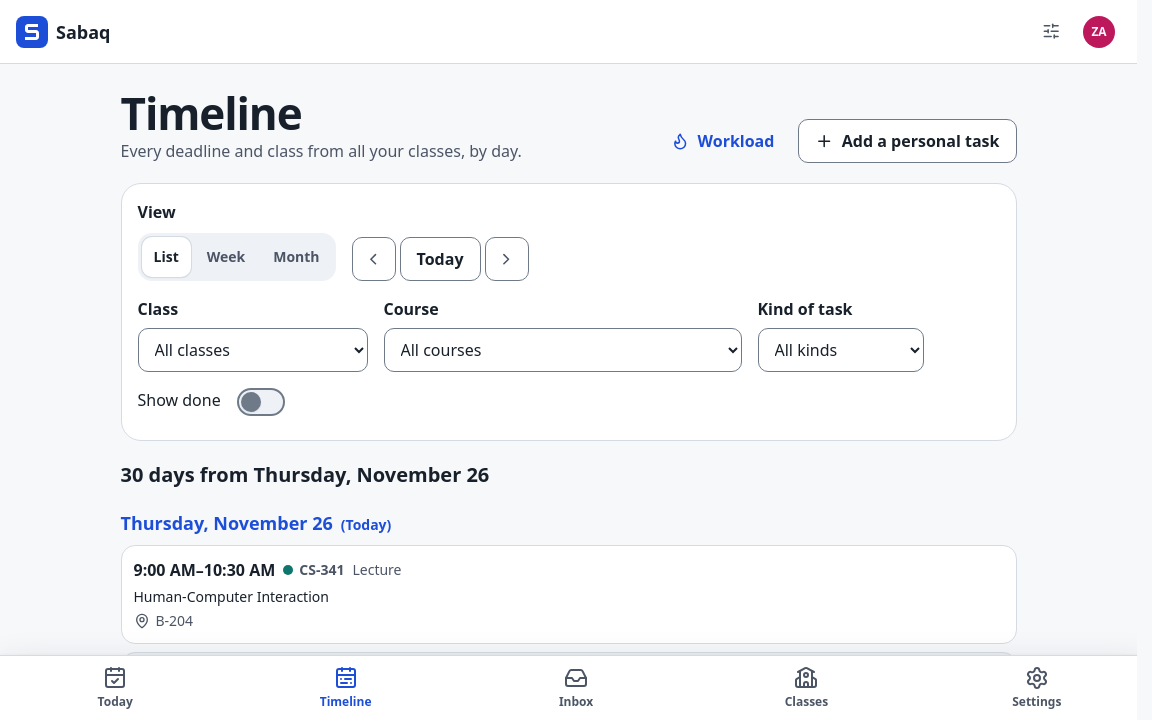
Timeline › shows done work only when asked
This screenshot has width=1152, height=720.
Expected: the heading "30 days from Thursday, November 26" is shown, [120,461,489,488]
Expected: the text "Finished lab" is not shown
Click the switch named "Show done" at (261, 402), box [237,388,285,416]
(page scrolled)
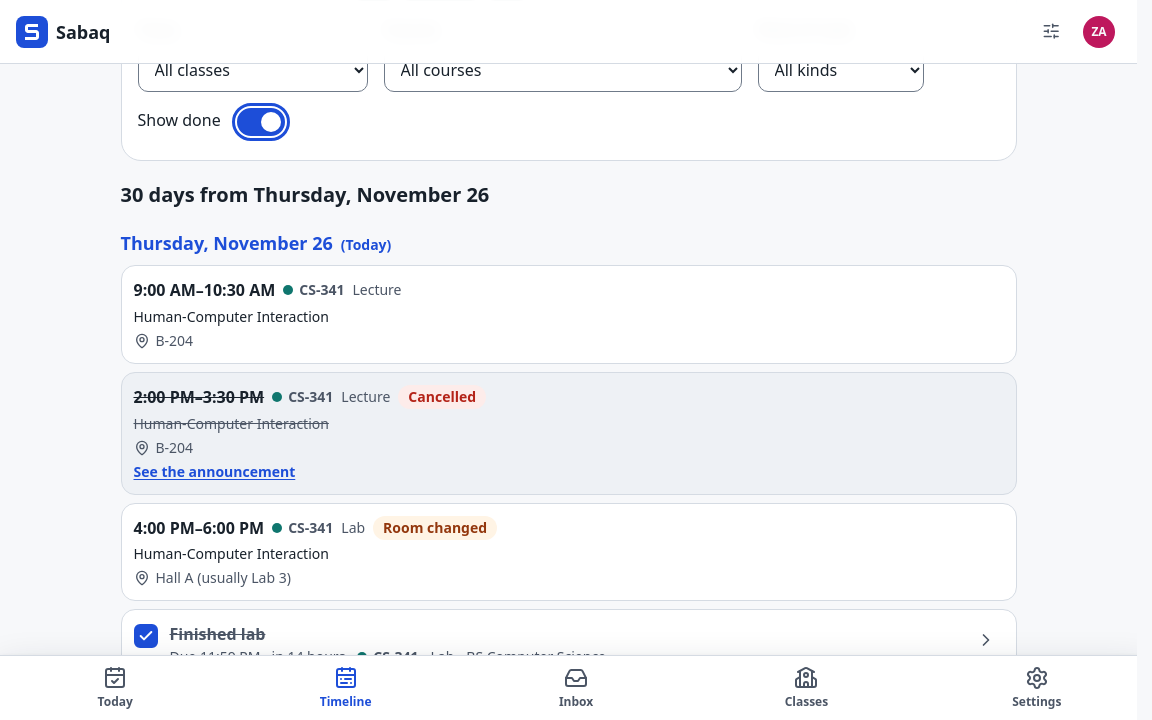
Now the text "Finished lab" is shown, box [170,623,265,645]
